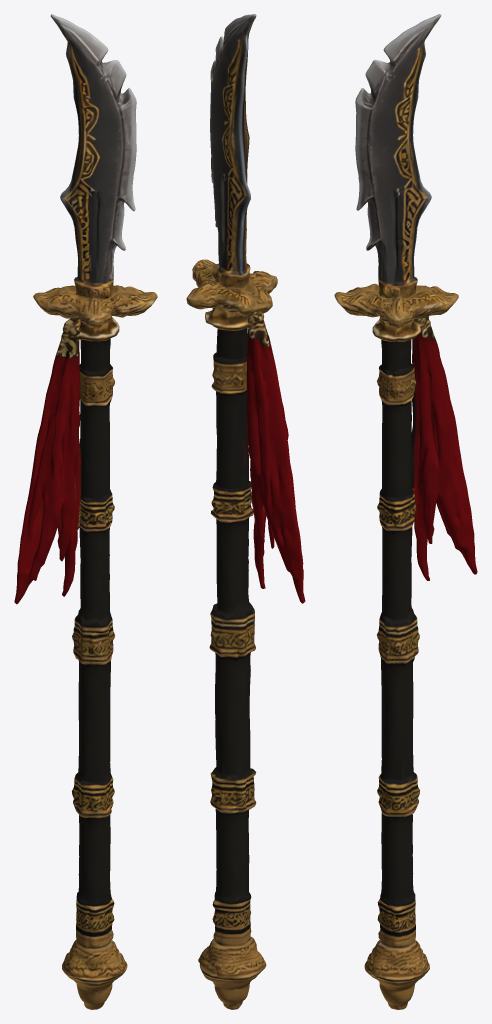
Rendered from look-weapon-t9-tripo.glb.
The picture shows the model from 3 angles, left to right: view 1: azimuth 90°, elevation 25°; view 2: azimuth 210°, elevation 25°; view 3: azimuth 270°, elevation 25°; orthographic projection.
Visible parts, largest first — view 1: tripo_node_e4c2e651-49f2-468f-90a6-a92140b9f287; view 2: tripo_node_e4c2e651-49f2-468f-90a6-a92140b9f287; view 3: tripo_node_e4c2e651-49f2-468f-90a6-a92140b9f287.
Part boxes in pixels (x1,y1,x2,y2): tripo_node_e4c2e651-49f2-468f-90a6-a92140b9f287: (14, 14, 157, 1009); tripo_node_e4c2e651-49f2-468f-90a6-a92140b9f287: (186, 14, 305, 1009); tripo_node_e4c2e651-49f2-468f-90a6-a92140b9f287: (334, 14, 477, 1009).
Bounding box in the file's own units: 0.0935 × 1 × 0.1305.
1 material, 1 textured.
